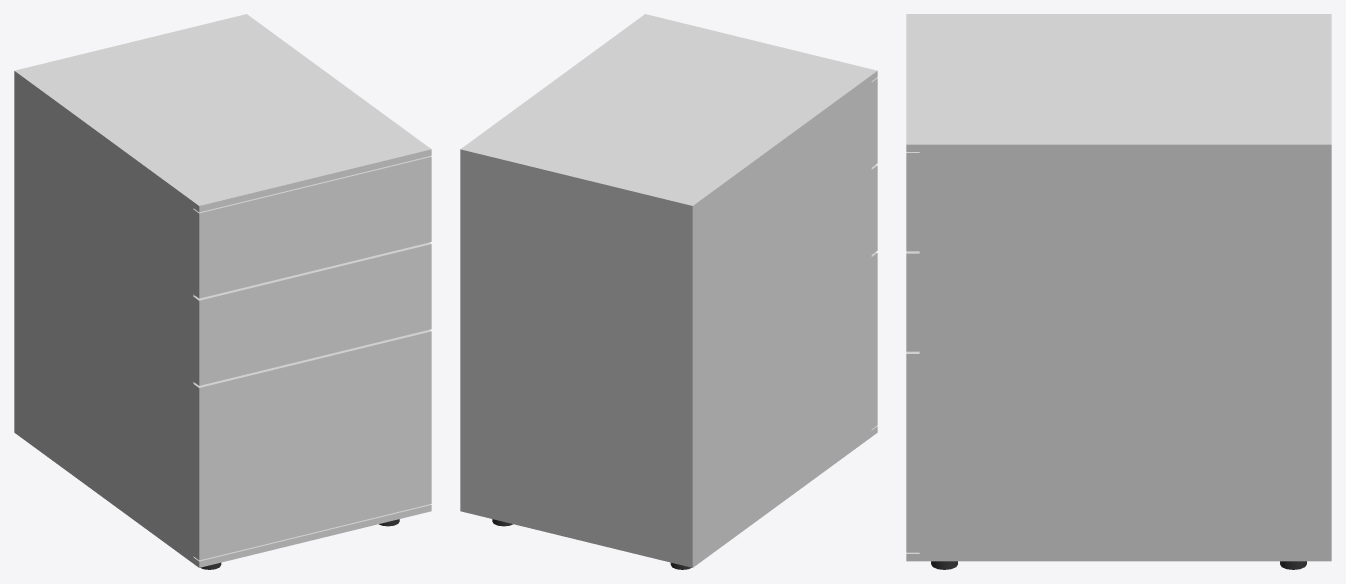
File: Drawers.FBX
The picture shows the model from 3 angles, left to right: view 1: azimuth 30°, elevation 25°; view 2: azimuth 150°, elevation 25°; view 3: azimuth 270°, elevation 25°; orthographic projection. The views are drawn at different scales.
Visible parts, largest first — view 1: drawers; view 2: drawers; view 3: drawers.
Part boxes in pixels (left/top/right/bottom): drawers: left=14, top=14, right=431, bottom=569; drawers: left=460, top=14, right=877, bottom=569; drawers: left=906, top=14, right=1331, bottom=569.
Bounding box in the file's own units: 45.89 × 71.27 × 63.22.
Materials: 2 (2 with a texture image).
